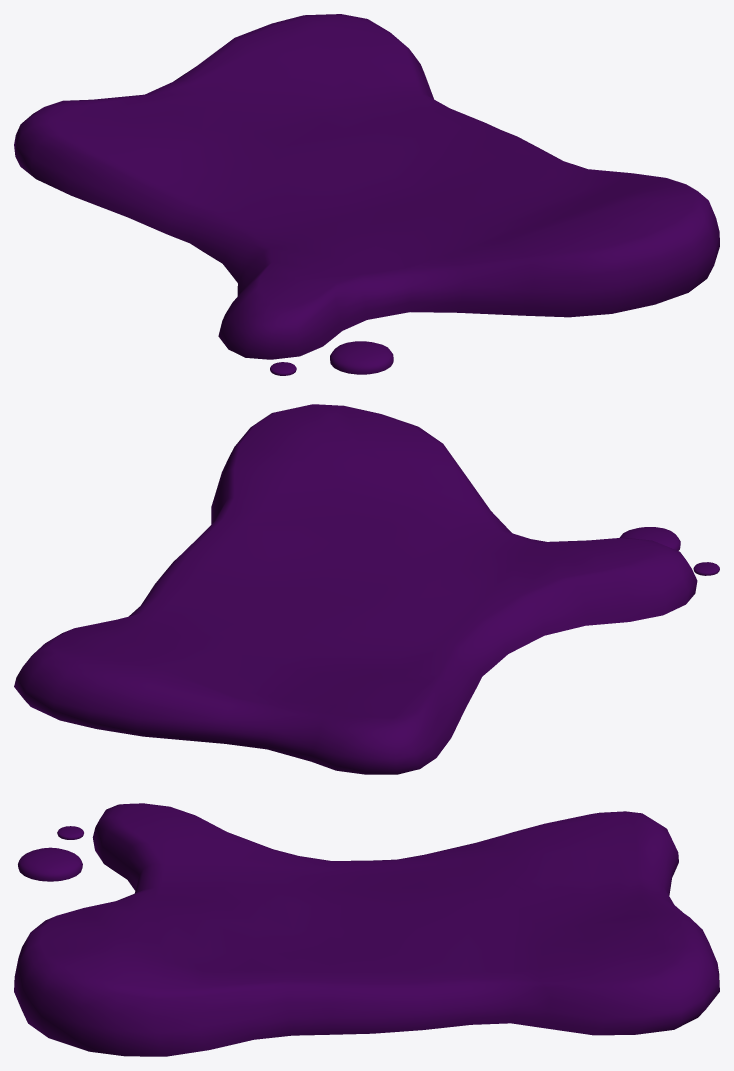
Rendered from Spread.FBX.
3 views of the same model, one above another, from view 1: azimuth 30°, elevation 25°; view 2: azimuth 150°, elevation 25°; view 3: azimuth 270°, elevation 25° (orthographic).
Parts seen in each view (by area): view 1: Line001; view 2: Line001; view 3: Line001.
Part boxes in pixels (x1,y1,x2,y2): Line001: [14, 14, 719, 375]; Line001: [14, 404, 719, 774]; Line001: [14, 803, 719, 1056].
Bounding box in the file's own units: 428 × 66.6 × 556.
